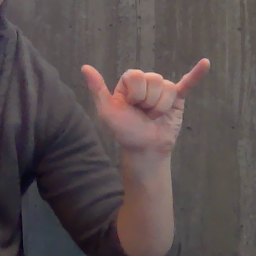Y: (79, 55, 212, 152)
